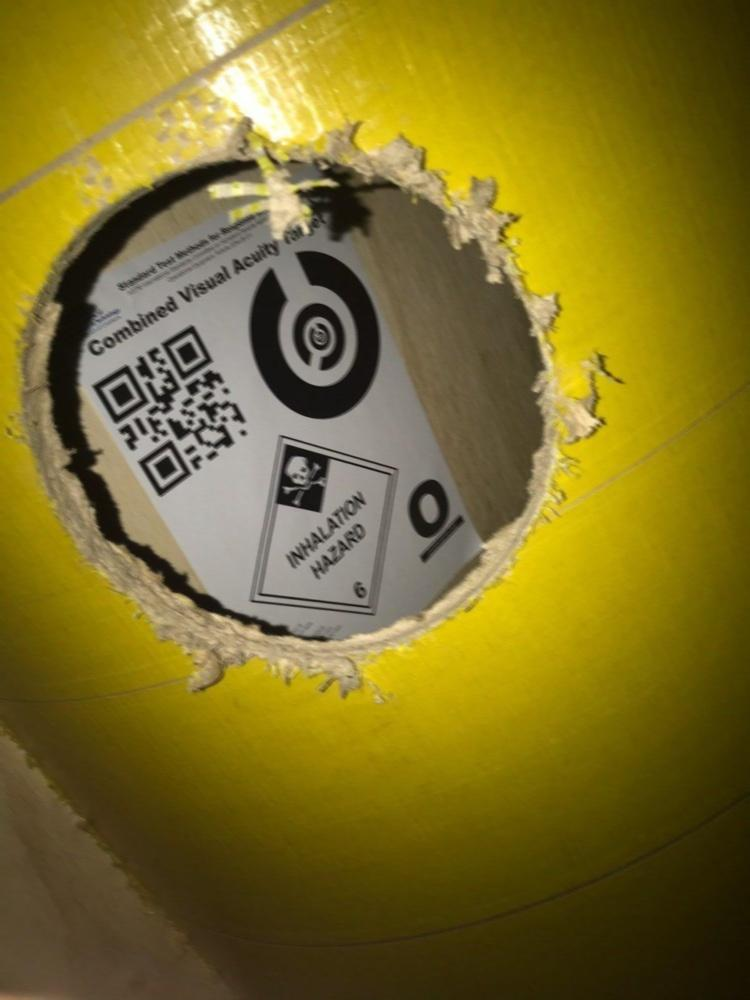poison: (250, 433, 397, 617)
